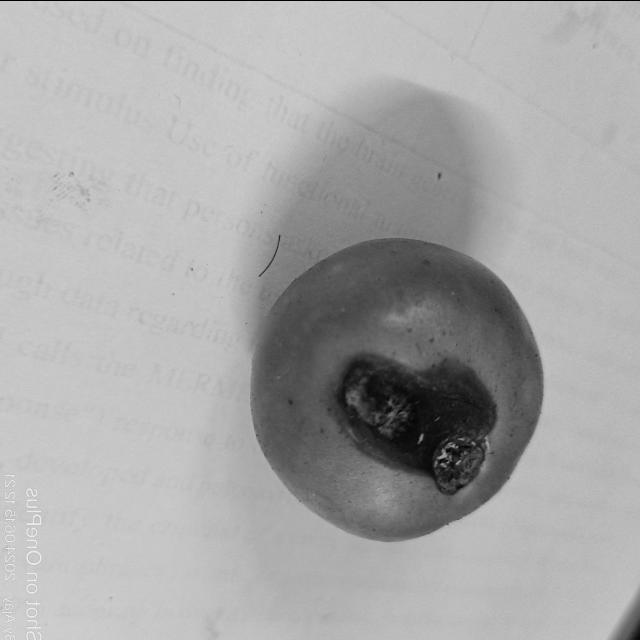Anthrocnose: (332, 356, 498, 494)
